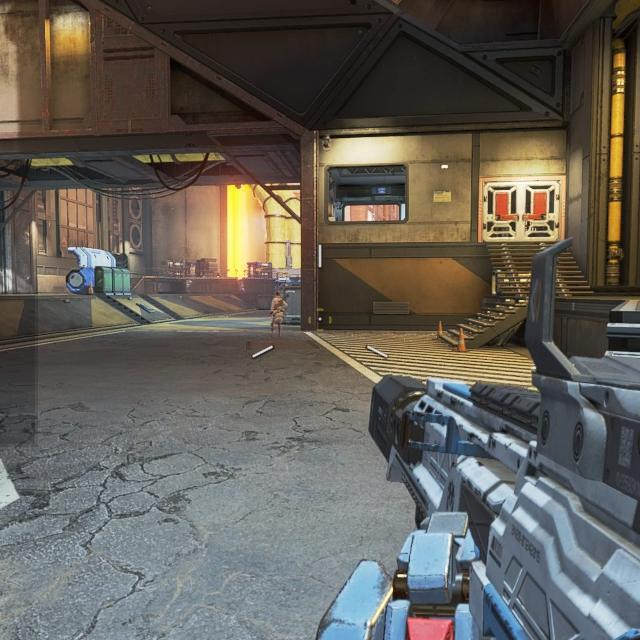avatar: (269, 289, 289, 337)
